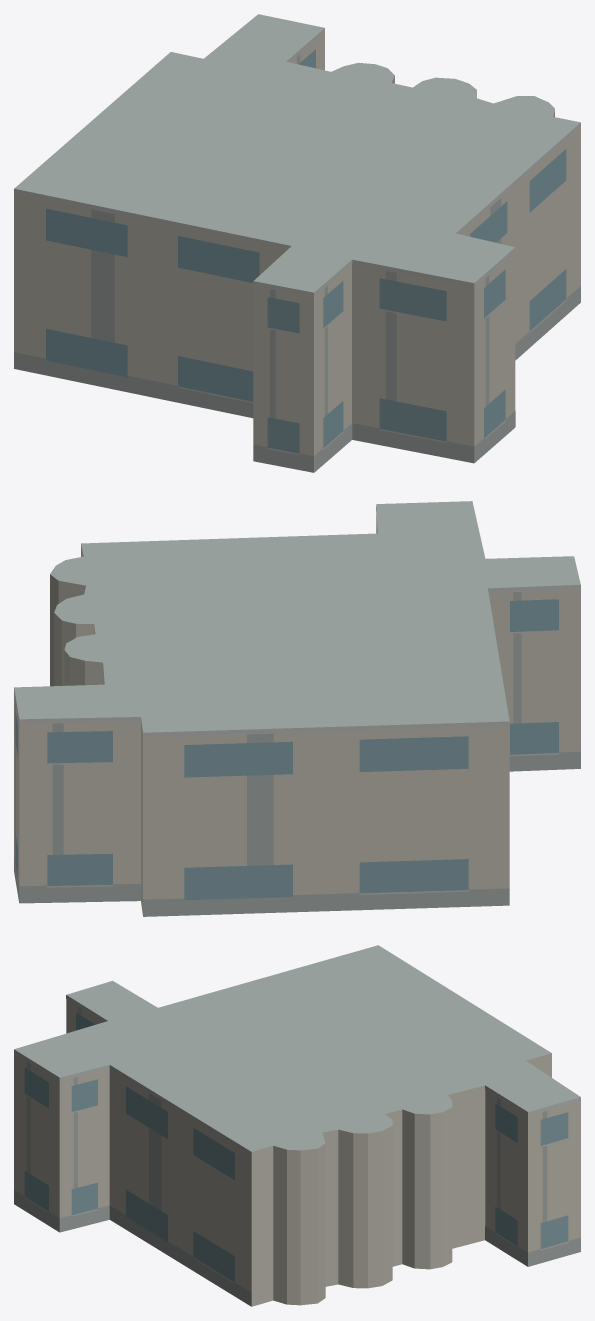
Rendered from survey-upis-32582169.glb.
The picture shows the model from 3 angles, top to bottom: view 1: azimuth 30°, elevation 25°; view 2: azimuth 150°, elevation 25°; view 3: azimuth 270°, elevation 25°; orthographic projection. The views are drawn at different scales.
Visible parts, largest first — view 1: survey-upis-32582169.tmp; view 2: survey-upis-32582169.tmp; view 3: survey-upis-32582169.tmp.
Boxes of the visible parts, x1,y1,x2,y2 form: survey-upis-32582169.tmp: [14, 14, 580, 472]; survey-upis-32582169.tmp: [14, 501, 580, 916]; survey-upis-32582169.tmp: [14, 945, 580, 1306].
Bounding box in the file's own units: 26.21 × 9.15 × 30.36.
